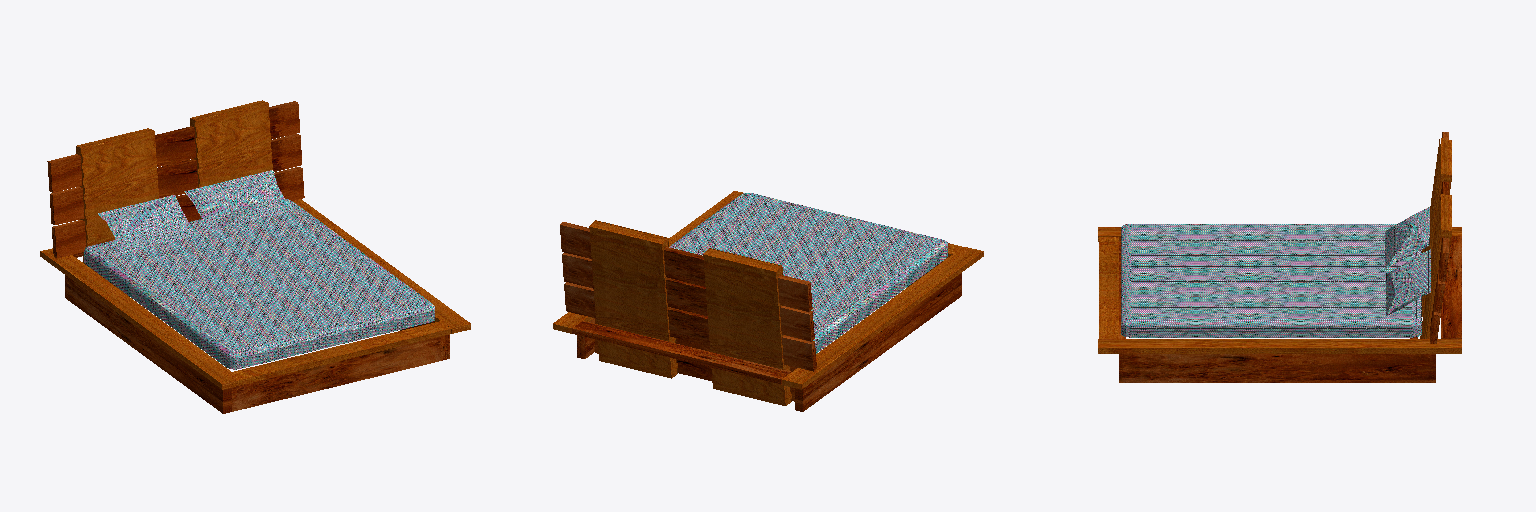
3 views of the same model, side by side, from view 1: azimuth 30°, elevation 25°; view 2: azimuth 150°, elevation 25°; view 3: azimuth 270°, elevation 25° (orthographic).
Visible parts, largest first — view 1: bed2; view 2: bed2; view 3: bed2.
Boxes of the visible parts, x1,y1,x2,y2 form: bed2: [40, 100, 470, 413]; bed2: [553, 191, 983, 411]; bed2: [1098, 132, 1461, 382].
Size of the model in its own units: 1.48 by 0.8155 by 1.87.
Materials: 8 (3 with a texture image).